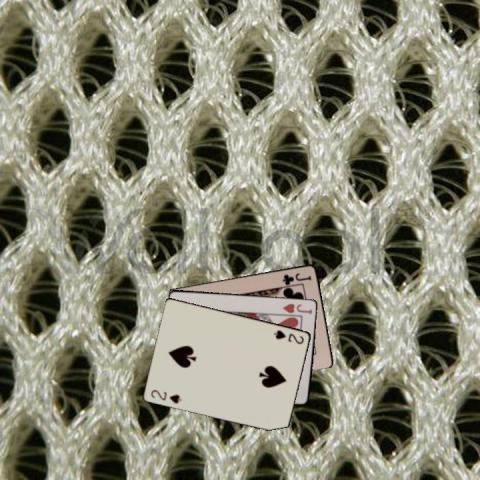2s: (148, 386, 183, 404), (271, 327, 305, 345)
Jc: (279, 270, 313, 285)
Jh: (280, 301, 313, 315)
